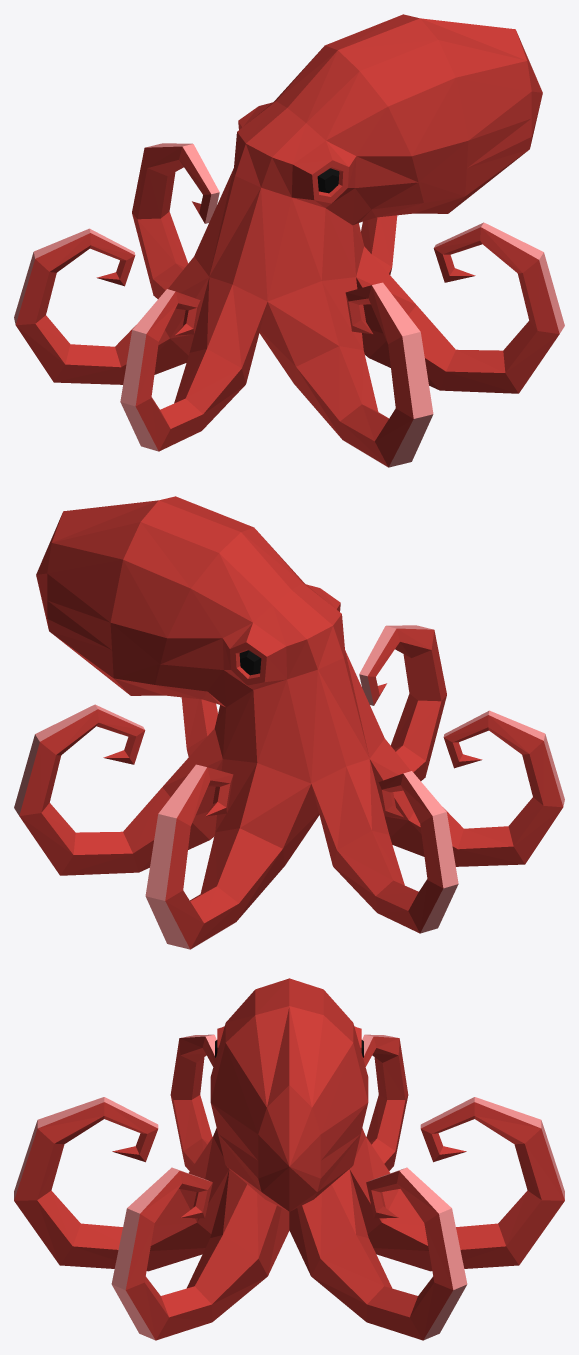
The model's file is Octopus_01.FBX.
3 views of the same model, one above another, from view 1: azimuth 30°, elevation 25°; view 2: azimuth 150°, elevation 25°; view 3: azimuth 270°, elevation 25° (orthographic). The views are drawn at different scales.
Parts seen in each view (by area): view 1: Octopus; view 2: Octopus; view 3: Octopus.
Boxes of the visible parts, x1,y1,x2,y2 form: Octopus: (14, 14, 564, 467); Octopus: (14, 496, 564, 949); Octopus: (14, 978, 564, 1340).
Size of the model in its own units: 147 by 98.08 by 151.
